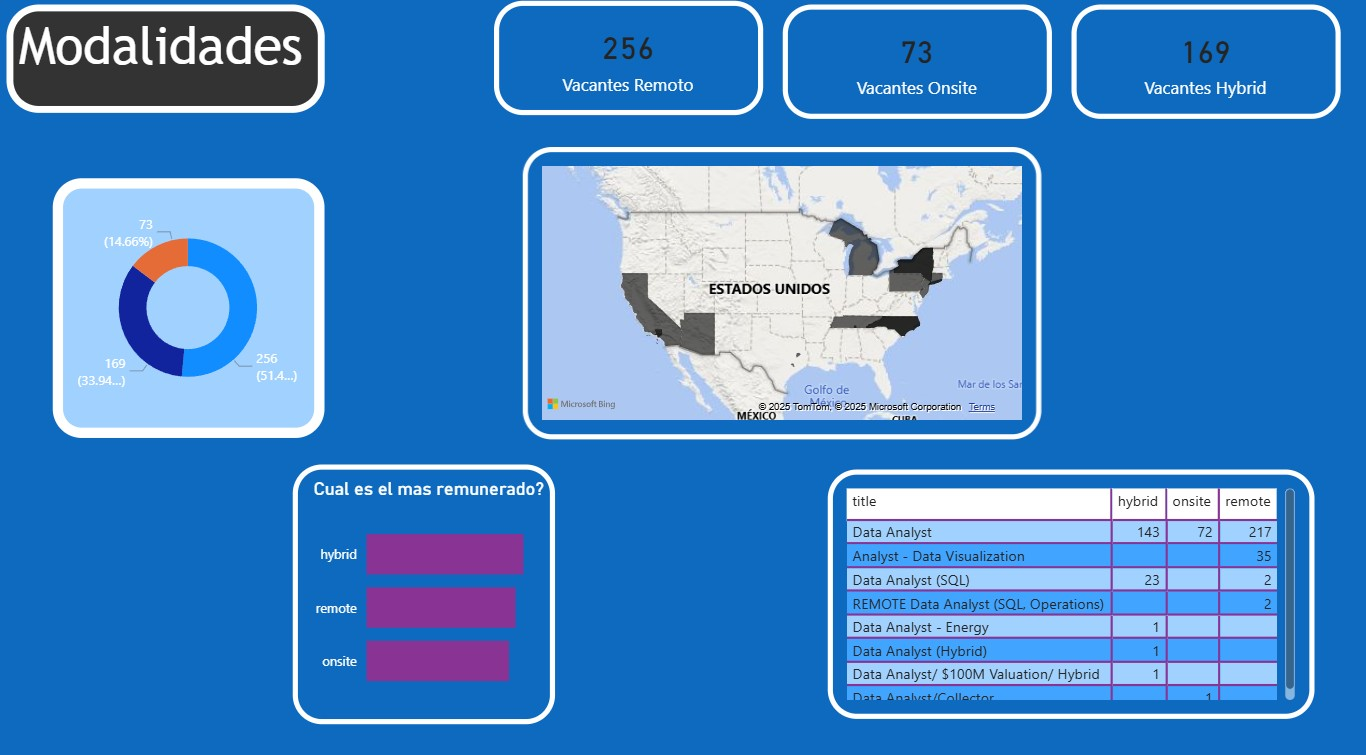

Layout of this report page (visuals, bound fields, positions):
{"tool":"powerbi","page":{"name":"MD","canvas":[1280,720],"ordinal":2},"visuals":[{"type":"textbox","box":[11.6,11.6,296.2,101.1],"z":0},{"type":"card","title":"Empresas","fields":{"Values":["jobs.Vacantes Onsite"]},"box":[734,12,250.3,106.6],"z":1000},{"type":"card","title":"Modalidad","fields":{"Values":["jobs.Vacantes Remoto"]},"box":[464.6,8.4,250.3,106.6],"z":2000},{"type":"donutChart","title":"TOP 10 ","fields":{"Category":["jobs.onsite_remote"],"Y":["jobs.Total Vacantes"]},"box":[55.1,173.6,252.6,241.9],"z":3000},{"type":"barChart","title":"Cual es el mas remunerado?","fields":{"Category":["jobs.onsite_remote"],"Y":["jobs.Salario Promedio"]},"box":[277.8,439.4,244.3,241.9],"z":4000},{"type":"card","title":"Empresas","fields":{"Values":["jobs.Vacantes Hybrid"]},"box":[1002.2,12,250.3,106.6],"z":5000},{"type":"filledMap","title":"Cual es el mas remunerado?","fields":{"Category":["jobs.location"]},"box":[492.1,143.7,482.5,271.8],"z":6000},{"type":"pivotTable","title":"Cual es el mas remunerado?","fields":{"Rows":["jobs.title"],"Columns":["jobs.onsite_remote"],"Values":["jobs.Total Vacantes"]},"box":[775.9,444.2,452.6,232.3],"z":7000}]}

Visuals, with their boxes in screenshot pixels (x1, y1, x2, y2), scaled from the page's 1280x720 canvas onto the 1366x755 screenshot:
textbox: 12/12/328/118
"Empresas" card: 783/13/1050/124
"Modalidad" card: 496/9/763/121
"TOP 10 " donutChart: 59/182/328/436
"Cual es el mas remunerado?" barChart: 296/461/557/714
"Empresas" card: 1070/13/1337/124
"Cual es el mas remunerado?" filledMap: 525/151/1040/436
"Cual es el mas remunerado?" pivotTable: 828/466/1311/709
